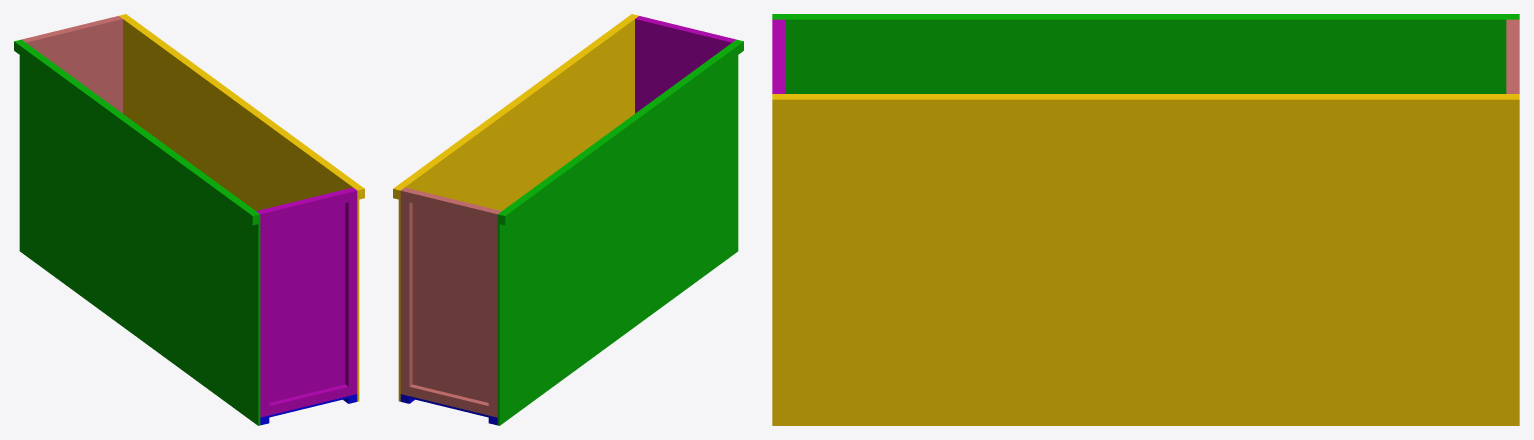
Rendered from result.glb.
The picture shows the model from 3 angles, left to right: view 1: azimuth 30°, elevation 25°; view 2: azimuth 150°, elevation 25°; view 3: azimuth 270°, elevation 25°; orthographic projection. The views are drawn at different scales.
Visible parts, largest first — view 1: e3a0bc21-0759-4670-976c-8c28a09ba176__Box_6, 3902dfec-cb8e-46d2-82f4-9b3637465d8d__undefined, 1bae781a-d388-4c90-bf6f-b5009685d9a1__Box_3, 90694872-5b70-4886-ad9b-ad5961fa5951__undefined, 8a20b476-64a4-4f26-a6e8-ce780f7cabe3__Box_7, 60041630-cd7f-48f4-92b4-6c80c31c6316__undefined, b2b1e648-c28e-446f-ad8c-4a44f8aff8cf__Box_4, 4bf25edd-ac86-44a4-8577-bce72fca7714__undefined, d4e47b2c-f477-410f-8dc2-8beb83221158__undefined, 28ac3e2d-06ea-4e8e-aa1a-3688d4a3b8d7__Box_5; view 2: e3a0bc21-0759-4670-976c-8c28a09ba176__Box_6, 3902dfec-cb8e-46d2-82f4-9b3637465d8d__undefined, 90694872-5b70-4886-ad9b-ad5961fa5951__undefined, 1bae781a-d388-4c90-bf6f-b5009685d9a1__Box_3, 8a20b476-64a4-4f26-a6e8-ce780f7cabe3__Box_7, c254f3a8-6fac-4cec-a019-69e4bd56640a__undefined, 194c1dc6-6046-4a2f-9a13-0619830583a0__undefined, 4bf25edd-ac86-44a4-8577-bce72fca7714__undefined, f6949e43-6862-424c-b95f-67527221ac9c__undefined, 355cbb35-ac90-40d1-b1a7-497f34368089__undefined; view 3: 3902dfec-cb8e-46d2-82f4-9b3637465d8d__undefined, e3a0bc21-0759-4670-976c-8c28a09ba176__Box_6, 4bf25edd-ac86-44a4-8577-bce72fca7714__undefined, 8a20b476-64a4-4f26-a6e8-ce780f7cabe3__Box_7.
Part boxes in pixels (x1,y1,x2,y2): e3a0bc21-0759-4670-976c-8c28a09ba176__Box_6: (19,39,260,425); 3902dfec-cb8e-46d2-82f4-9b3637465d8d__undefined: (119,15,359,401); 1bae781a-d388-4c90-bf6f-b5009685d9a1__Box_3: (256,187,353,402); 90694872-5b70-4886-ad9b-ad5961fa5951__undefined: (25,18,122,113); 8a20b476-64a4-4f26-a6e8-ce780f7cabe3__Box_7: (14,40,258,225); 60041630-cd7f-48f4-92b4-6c80c31c6316__undefined: (345,188,357,395); b2b1e648-c28e-446f-ad8c-4a44f8aff8cf__Box_4: (257,210,269,417); 4bf25edd-ac86-44a4-8577-bce72fca7714__undefined: (121,14,364,199); d4e47b2c-f477-410f-8dc2-8beb83221158__undefined: (266,190,348,221); 28ac3e2d-06ea-4e8e-aa1a-3688d4a3b8d7__Box_5: (269,384,348,415); e3a0bc21-0759-4670-976c-8c28a09ba176__Box_6: (497,39,738,425); 3902dfec-cb8e-46d2-82f4-9b3637465d8d__undefined: (398,15,638,401); 90694872-5b70-4886-ad9b-ad5961fa5951__undefined: (404,187,501,402); 1bae781a-d388-4c90-bf6f-b5009685d9a1__Box_3: (635,18,732,113); 8a20b476-64a4-4f26-a6e8-ce780f7cabe3__Box_7: (499,40,743,225); c254f3a8-6fac-4cec-a019-69e4bd56640a__undefined: (400,188,412,395); 194c1dc6-6046-4a2f-9a13-0619830583a0__undefined: (488,210,500,417); 4bf25edd-ac86-44a4-8577-bce72fca7714__undefined: (393,14,636,199); f6949e43-6862-424c-b95f-67527221ac9c__undefined: (409,190,491,221); 355cbb35-ac90-40d1-b1a7-497f34368089__undefined: (409,384,488,415); 3902dfec-cb8e-46d2-82f4-9b3637465d8d__undefined: (772,94,1519,425); e3a0bc21-0759-4670-976c-8c28a09ba176__Box_6: (772,18,1519,93); 4bf25edd-ac86-44a4-8577-bce72fca7714__undefined: (772,95,1519,114); 8a20b476-64a4-4f26-a6e8-ce780f7cabe3__Box_7: (772,14,1519,18).
Size of the model in its own units: 450 by 810 by 1660.
